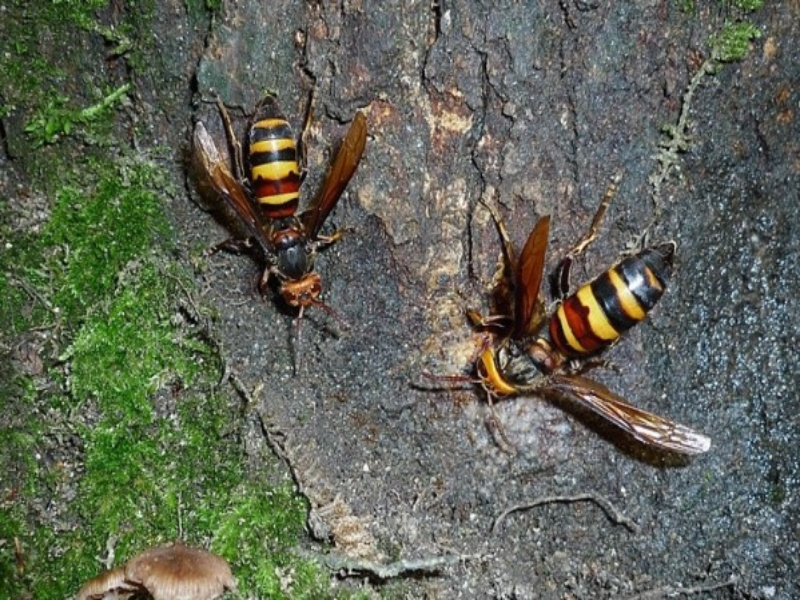asian_giant_hornet: (191, 96, 371, 315), (465, 237, 681, 404)
